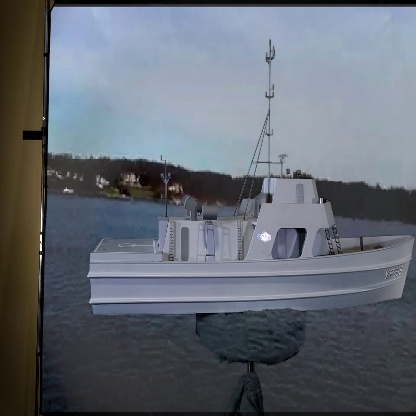YP689: (87, 37, 415, 317)
